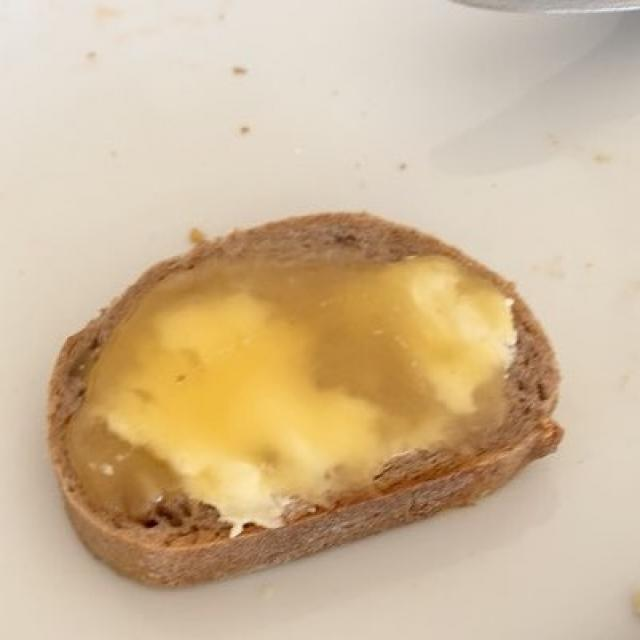bread-wholemeal: (57, 220, 550, 580)
butter: (97, 243, 530, 529)
honey: (63, 243, 498, 516)
